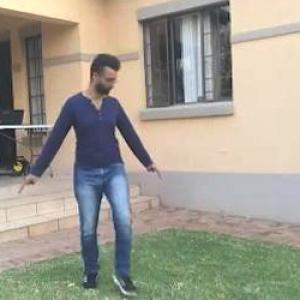land: (27, 42, 188, 299)
